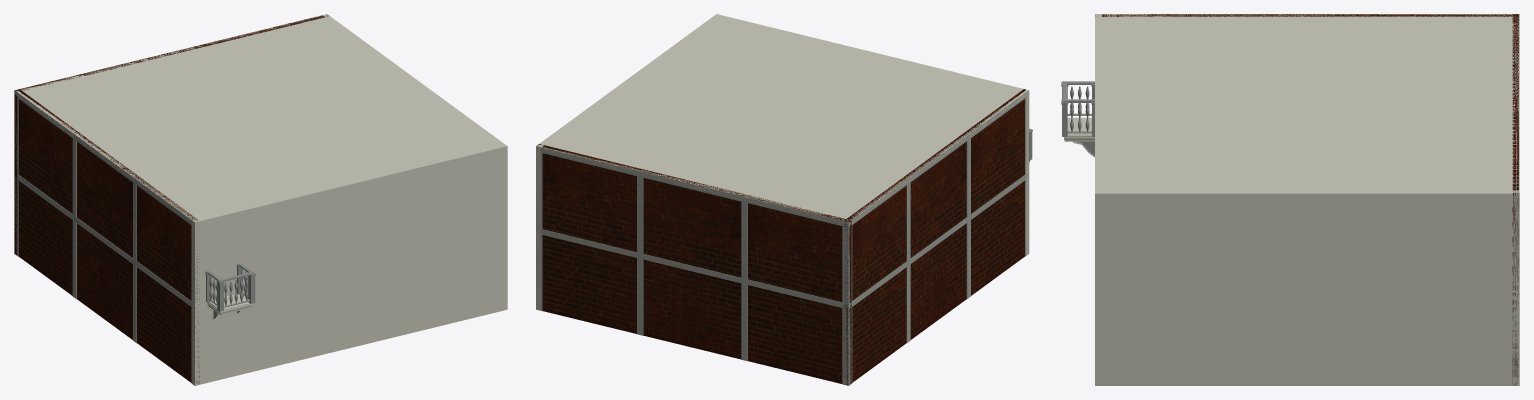
File: building.glb
3 views of the same model, side by side, from view 1: azimuth 30°, elevation 25°; view 2: azimuth 150°, elevation 25°; view 3: azimuth 270°, elevation 25° (orthographic). The views are drawn at different scales.
Parts seen in each view (by area): view 1: roof/house:0/roof_slab#0001, house:0/edge0/z0/house:0/edge0/z0/wall_0_0, house:0/edge3/z0/house:0/edge3/z0/wall_0_0, house:0/edge2/z0/house:0/edge2/z0/wall_0_0, house:0/edge1/z0/house:0/edge1/z0/wall_0_0, house:0/edge3/z0/house:0/edge3/z0/beam_0_0, house:0/edge3/z0/house:0/edge3/z0/beam_1_0; view 2: roof/house:0/roof_slab#0001, house:0/edge2/z0/house:0/edge2/z0/wall_0_0, house:0/edge3/z0/house:0/edge3/z0/wall_0_0, house:0/edge2/z0/house:0/edge2/z0/beam_0_0, house:0/edge1/z0/house:0/edge1/z0/wall_0_0, house:0/edge2/z0/house:0/edge2/z0/beam_1_0, house:0/edge0/z0/house:0/edge0/z0/wall_0_0, house:0/edge3/z0/house:0/edge3/z0/beam_0_0, house:0/edge3/z0/house:0/edge3/z0/beam_1_0, house:0/edge2/z0/house:0/edge2/z0/column_1_1, house:0/edge2/z0/house:0/edge2/z0/column_2_0, house:0/edge2/z0/house:0/edge2/z0/column_2_1 (+3 smaller); view 3: house:0/edge1/z0/house:0/edge1/z0/wall_0_0, roof/house:0/roof_slab#0001, house:0/edge0/z0/house:0/edge0/z0/wall_0_0, house:0/edge2/z0/house:0/edge2/z0/wall_0_0, house:0/edge3/z0/house:0/edge3/z0/wall_0_0.
Boxes of the visible parts, x1=… form: roof/house:0/roof_slab#0001: x1=14, y1=16, x2=507, y2=224; house:0/edge0/z0/house:0/edge0/z0/wall_0_0: x1=192, y1=144, x2=507, y2=385; house:0/edge3/z0/house:0/edge3/z0/wall_0_0: x1=18, y1=89, x2=199, y2=383; house:0/edge2/z0/house:0/edge2/z0/wall_0_0: x1=14, y1=15, x2=328, y2=255; house:0/edge1/z0/house:0/edge1/z0/wall_0_0: x1=322, y1=14, x2=507, y2=310; house:0/edge3/z0/house:0/edge3/z0/beam_0_0: x1=14, y1=172, x2=194, y2=309; house:0/edge3/z0/house:0/edge3/z0/beam_1_0: x1=14, y1=90, x2=194, y2=225; roof/house:0/roof_slab#0001: x1=536, y1=14, x2=1028, y2=225; house:0/edge2/z0/house:0/edge2/z0/wall_0_0: x1=537, y1=144, x2=851, y2=384; house:0/edge3/z0/house:0/edge3/z0/wall_0_0: x1=843, y1=89, x2=1025, y2=385; house:0/edge2/z0/house:0/edge2/z0/beam_0_0: x1=536, y1=228, x2=848, y2=309; house:0/edge1/z0/house:0/edge1/z0/wall_0_0: x1=536, y1=15, x2=720, y2=310; house:0/edge2/z0/house:0/edge2/z0/beam_1_0: x1=536, y1=146, x2=848, y2=227; house:0/edge0/z0/house:0/edge0/z0/wall_0_0: x1=714, y1=14, x2=1029, y2=255; house:0/edge3/z0/house:0/edge3/z0/beam_0_0: x1=848, y1=173, x2=1028, y2=309; house:0/edge3/z0/house:0/edge3/z0/beam_1_0: x1=848, y1=90, x2=1028, y2=227; house:0/edge2/z0/house:0/edge2/z0/column_1_1: x1=842, y1=226, x2=848, y2=303; house:0/edge2/z0/house:0/edge2/z0/column_2_0: x1=637, y1=176, x2=643, y2=253; house:0/edge2/z0/house:0/edge2/z0/column_2_1: x1=637, y1=258, x2=643, y2=335; house:0/edge1/z0/house:0/edge1/z0/wall_0_0: x1=1095, y1=190, x2=1519, y2=385; roof/house:0/roof_slab#0001: x1=1095, y1=14, x2=1519, y2=197; house:0/edge0/z0/house:0/edge0/z0/wall_0_0: x1=1095, y1=14, x2=1101, y2=385; house:0/edge2/z0/house:0/edge2/z0/wall_0_0: x1=1512, y1=14, x2=1518, y2=385; house:0/edge3/z0/house:0/edge3/z0/wall_0_0: x1=1095, y1=14, x2=1512, y2=16.
Size of the model in its own units: 12 by 6 by 12.95.
4 materials, 1 textured.
